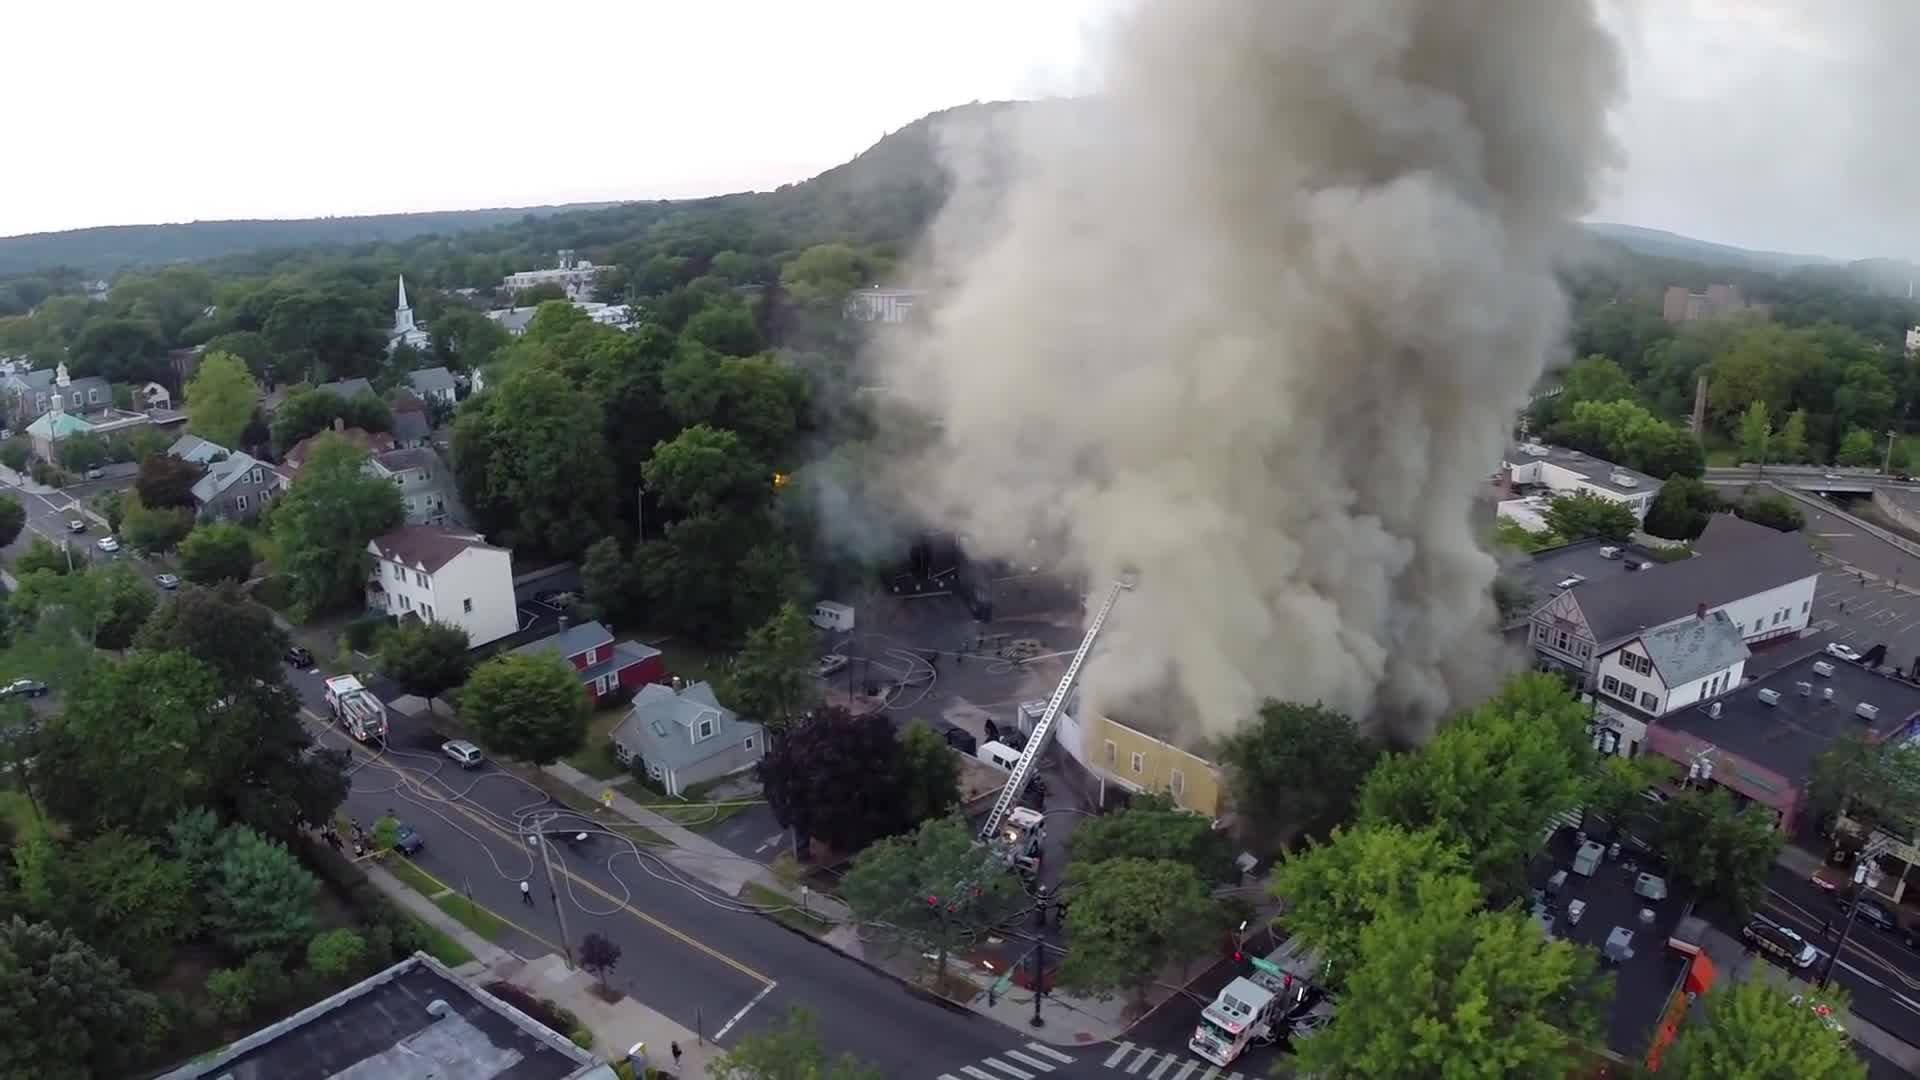smoke: (1112, 90, 1467, 633)
